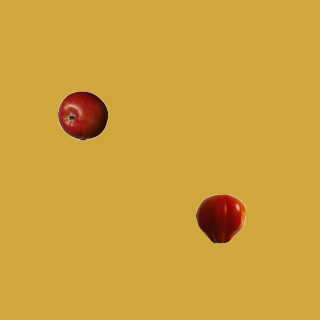Apple Braeburn: (57, 90, 107, 140)
Tomato 1: (195, 193, 245, 243)
